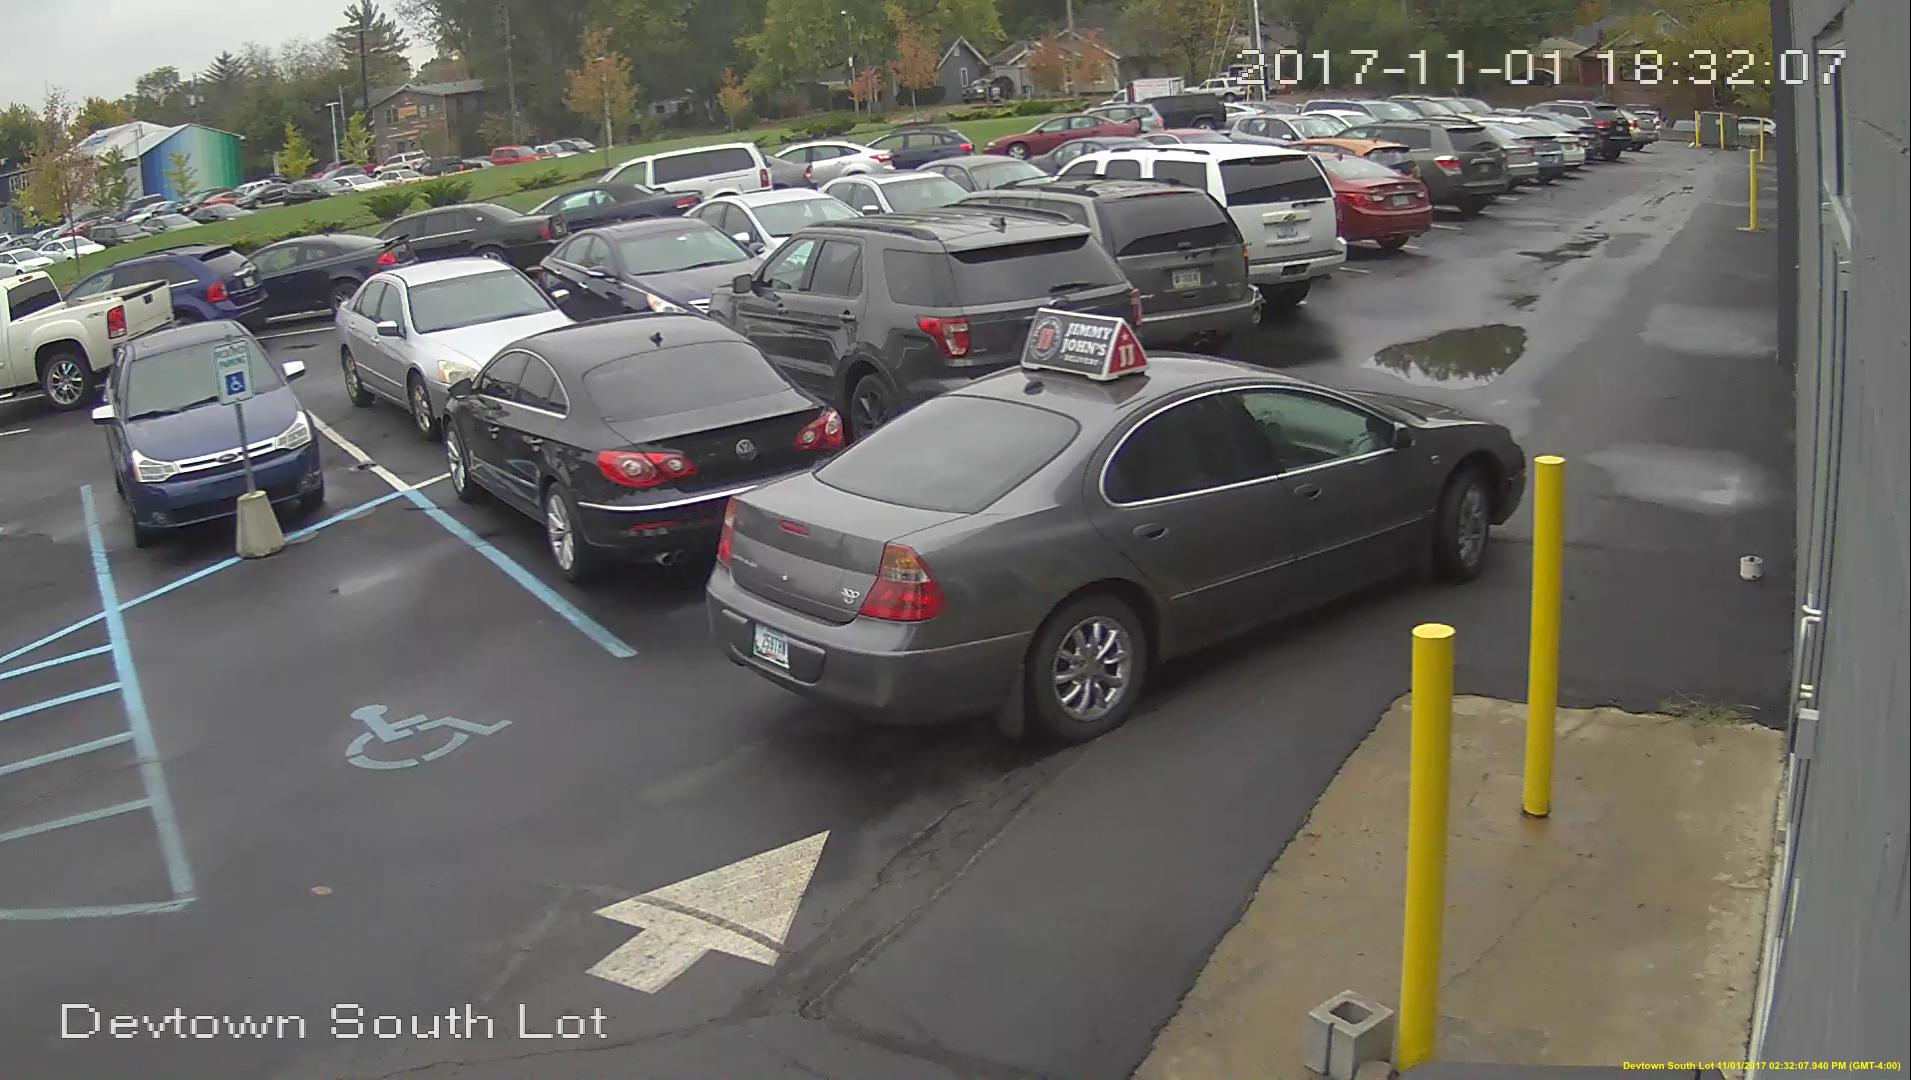jimmy_johns: (1018, 304, 1158, 387)
